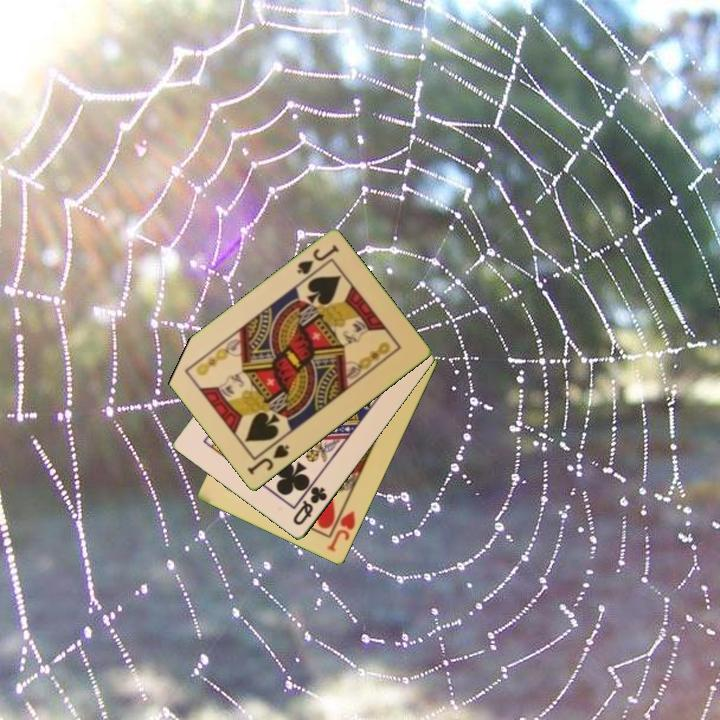Jh: (324, 508, 359, 555)
Js: (243, 441, 292, 478), (293, 242, 342, 278)
Qc: (289, 483, 330, 529)
